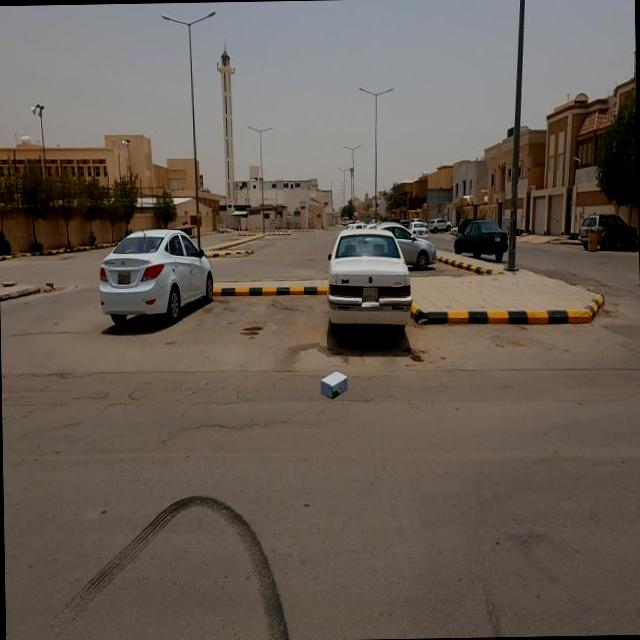debris: (290, 331, 380, 438)
